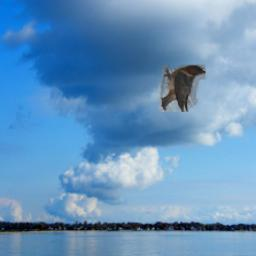Swallow: (160, 65, 207, 112)
